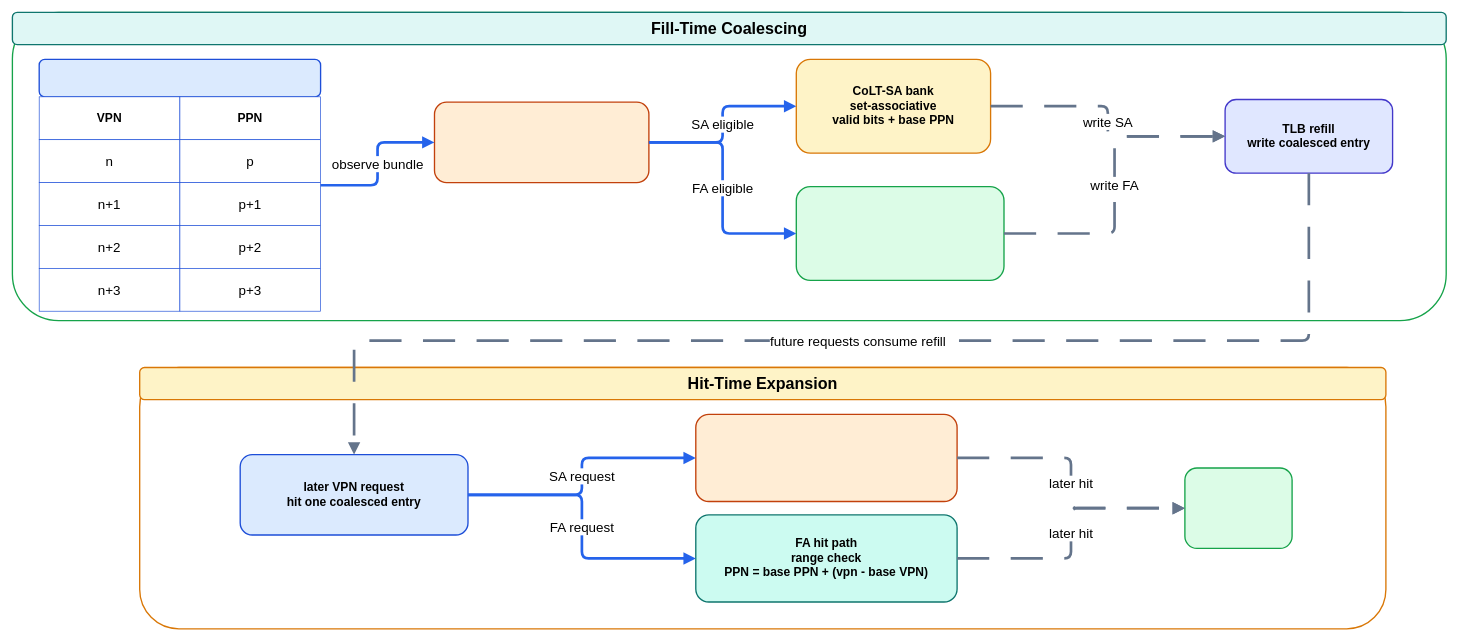
Some shapes in this 1458 by 641 pixel diagram are drawn without their labels. The shapes that lost their labels are listed below. From the top down, each one's centre as x and y in pixels, then its label:
At (179,77): "walk return bundle".
At (541,142): "contiguity detector VPN contiguous? PPN contiguous? attrs same?".
At (899,233): "CoLT-FA bank fully associative base VPN + length".
At (826,457): "SA hit path set lookup valid-bit select PPN = base PPN + delta".
At (1238,508): "expanded hit translation returned".
